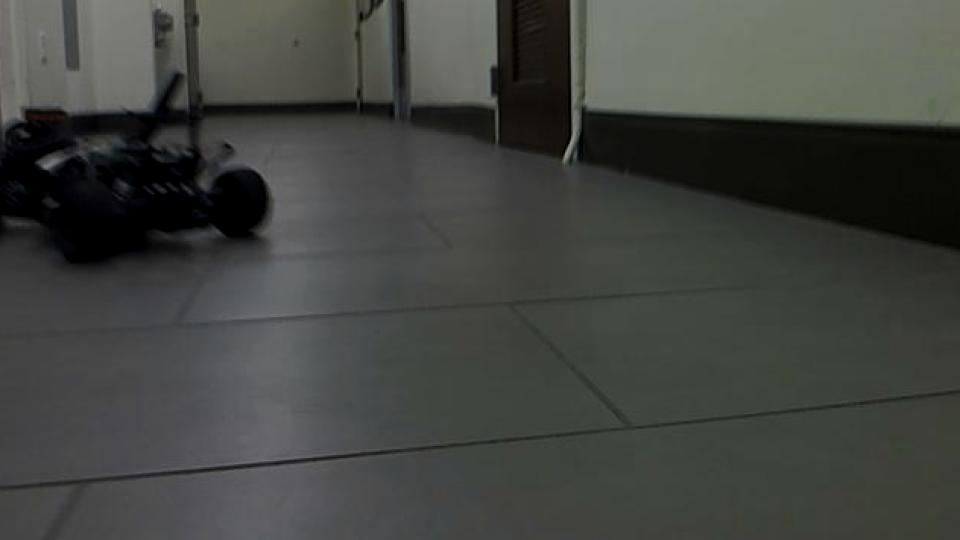car: (0, 68, 280, 266)
